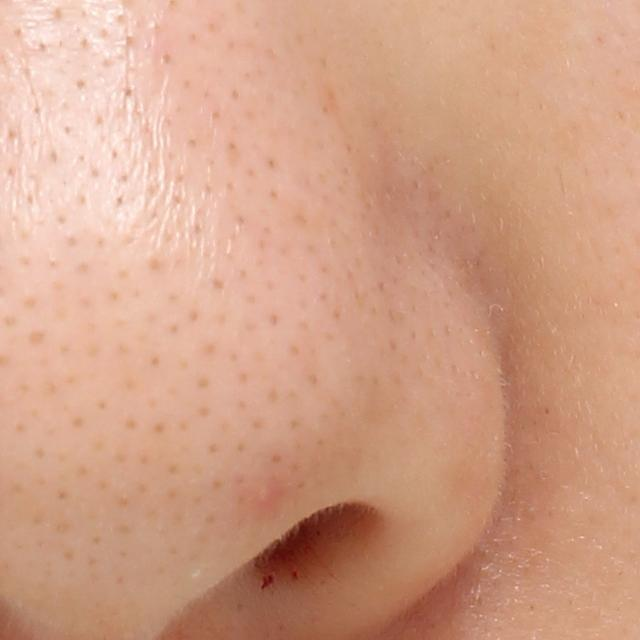papule: (256, 479, 284, 512)
